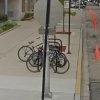Bicycle: (16, 29, 71, 83)
